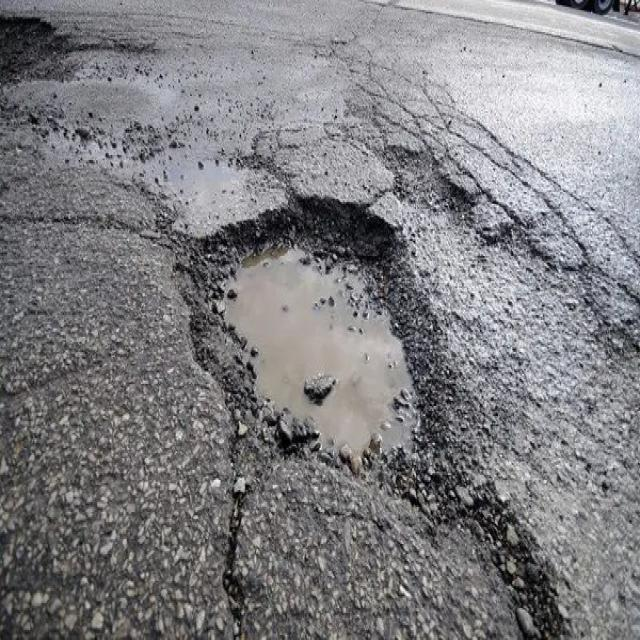Pothole: (170, 188, 442, 488)
